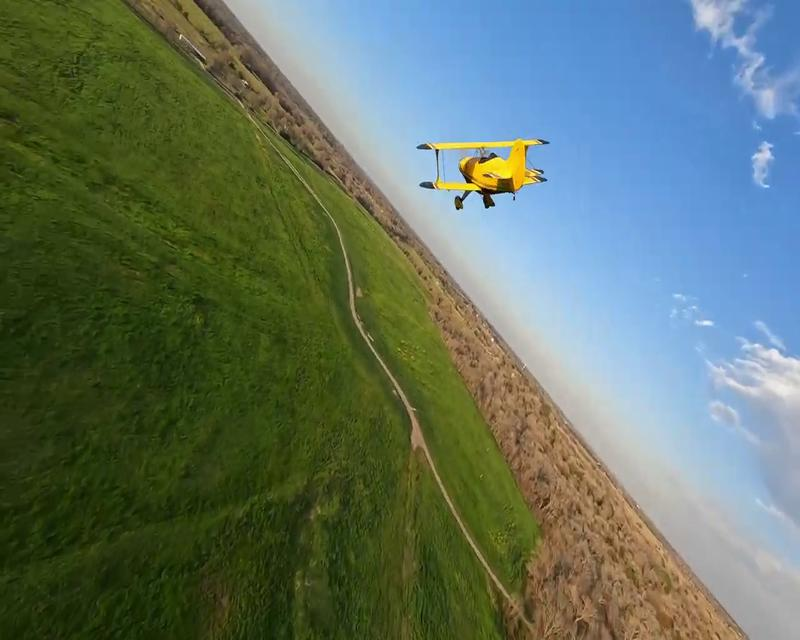UAV: (415, 136, 550, 211)
